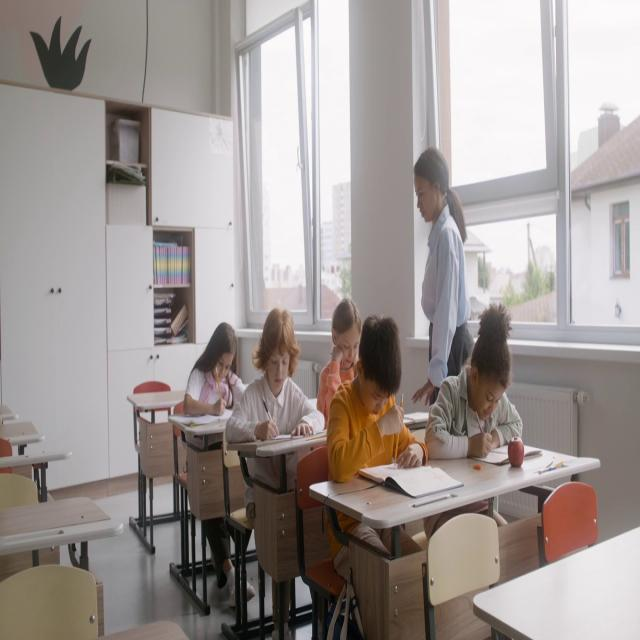reading: (317, 298, 362, 427)
writing: (332, 313, 436, 630), (184, 325, 256, 610), (229, 309, 323, 503), (427, 304, 524, 461)
